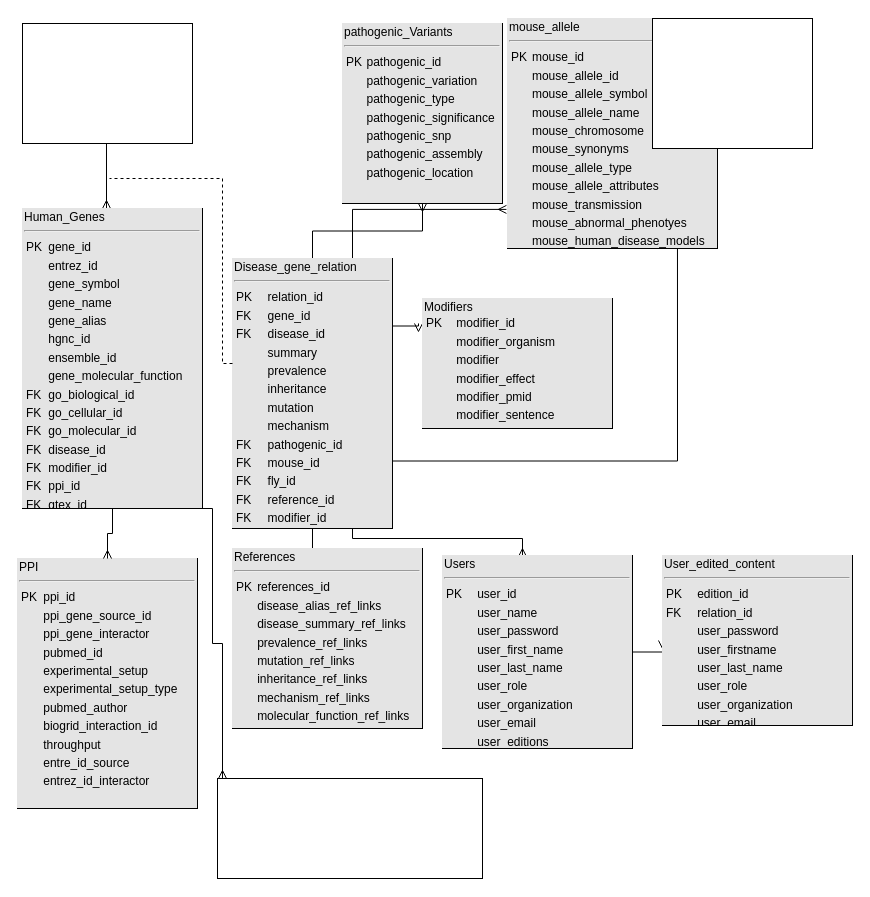
Some shapes in this 870 by 897 pixel diagram are drawn without their labels. Here are the shapes that lost their labels. From the top down, the centre of each, then its label:
(x=107, y=83): Diseases PK disease_id disease_type disease_alias FK gene_id
(x=732, y=83): Fly_Allele PK fly_id fly_allele_symbol fly_allele_Fbal fly_phenotype fly_FBrf
(x=349, y=828): Gtex_tpm PK gtex_id gene_symbol organ_type
